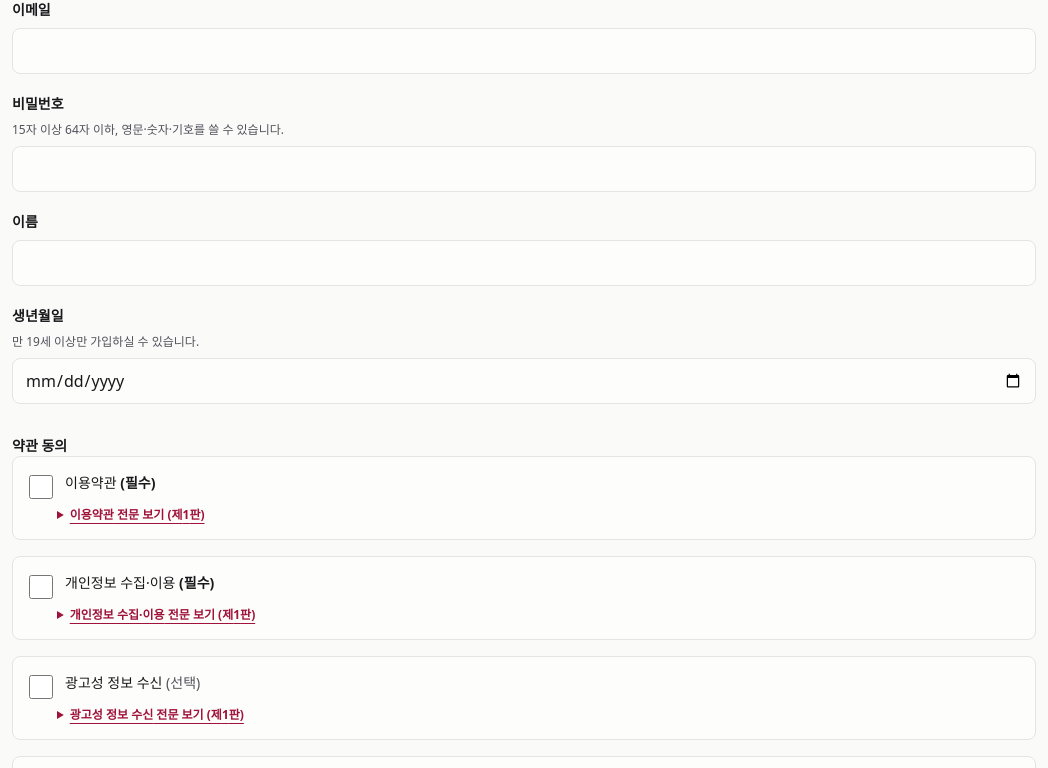
Test: 가입 화면 › 생년월일을 싣고, 만 19세 미만이면 그 까닭을 말한다
The image size is (1048, 768).
Type "2010-05-05" into the date field labelled "생년월일" at (524, 381), box [12,358,1036,404]
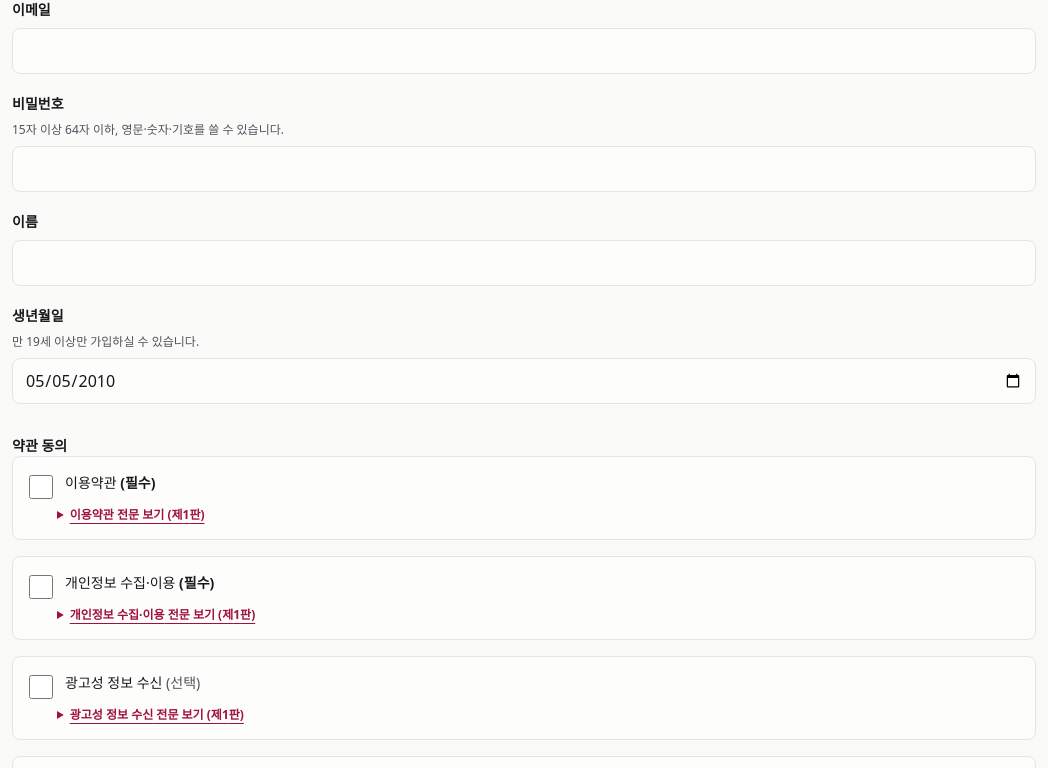
Click the checkbox labelled "이용약관 (필수)" at (41, 487), box [29,475,53,499]
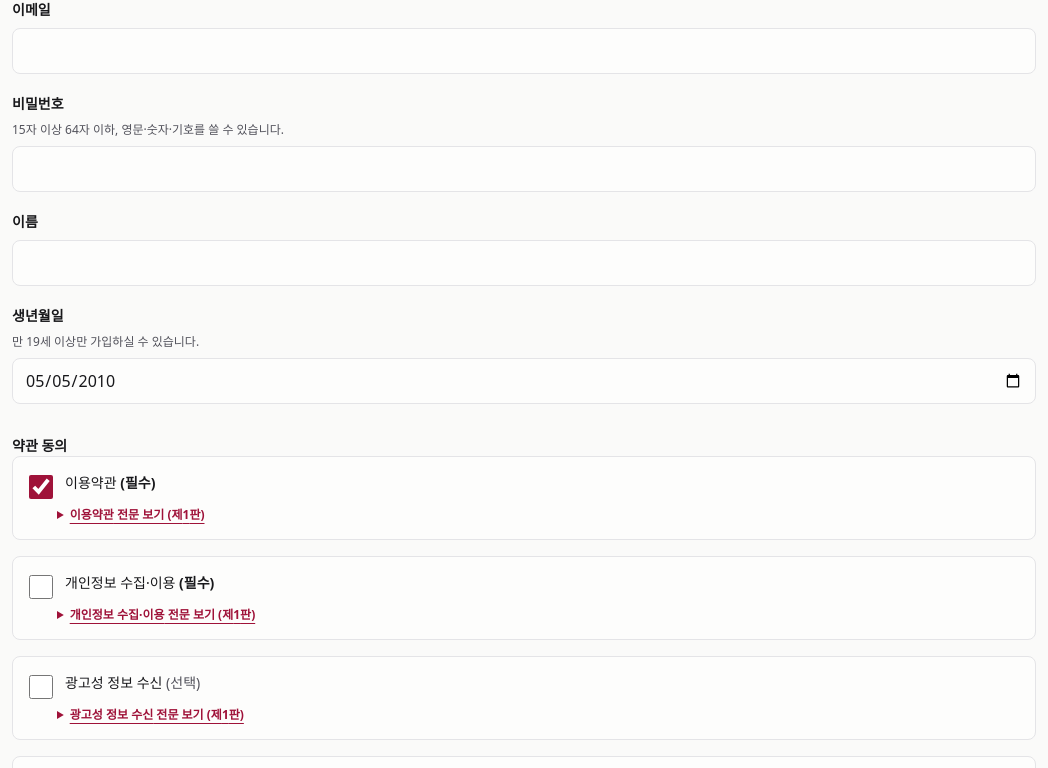
Click the checkbox labelled "개인정보 수집·이용 (필수)" at (41, 587), box [29,575,53,599]
(page scrolled)
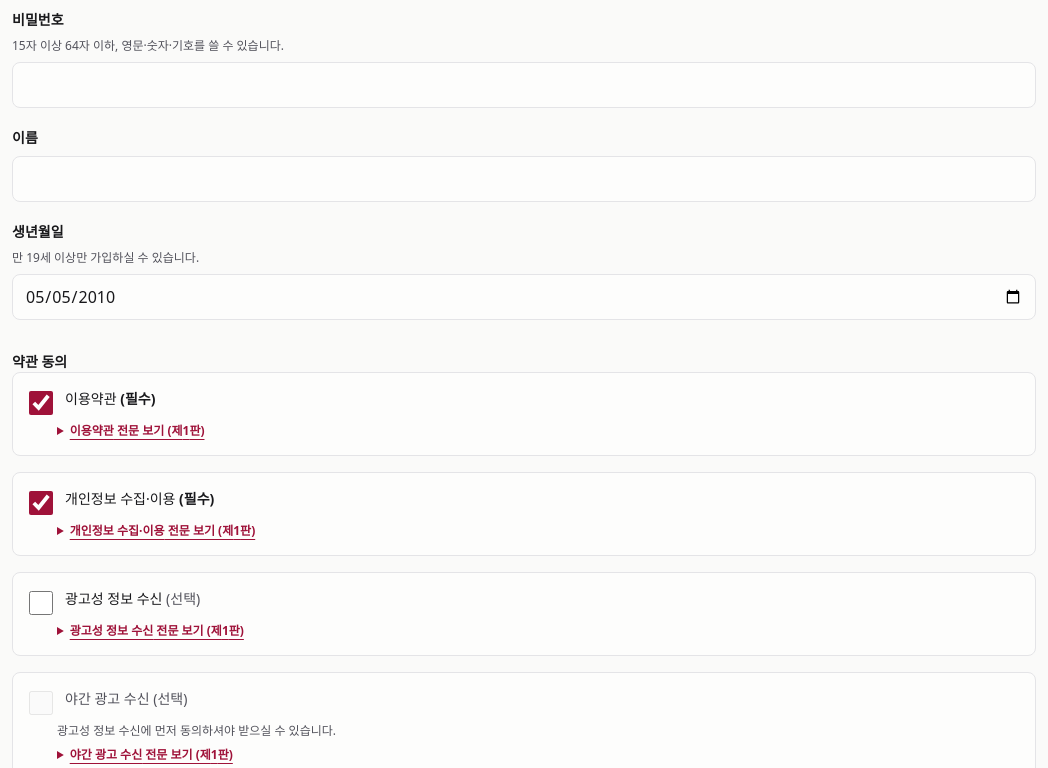
Submit the form
(page scrolled)
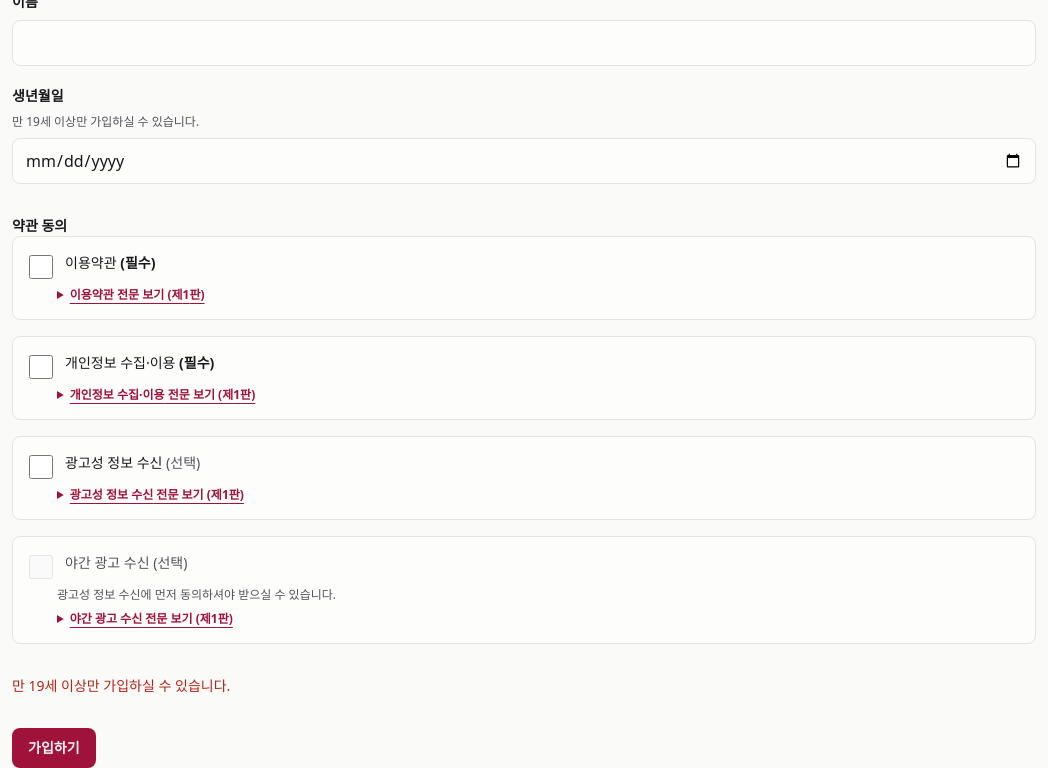
Result: the 2nd text "만 19세 이상만 가입하실 수 있습니다." is shown at [12,676,230,695]
